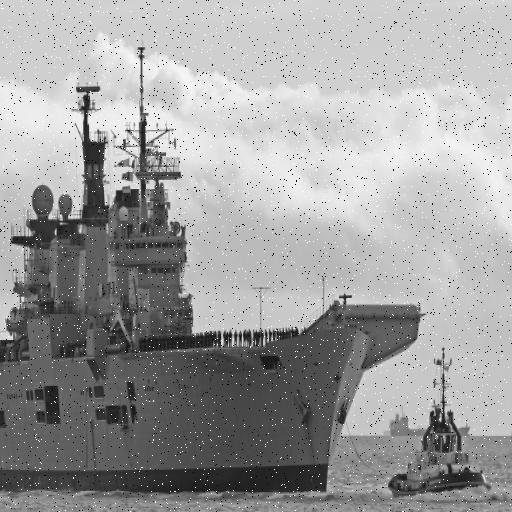Portanaves: (1, 28, 427, 507)
